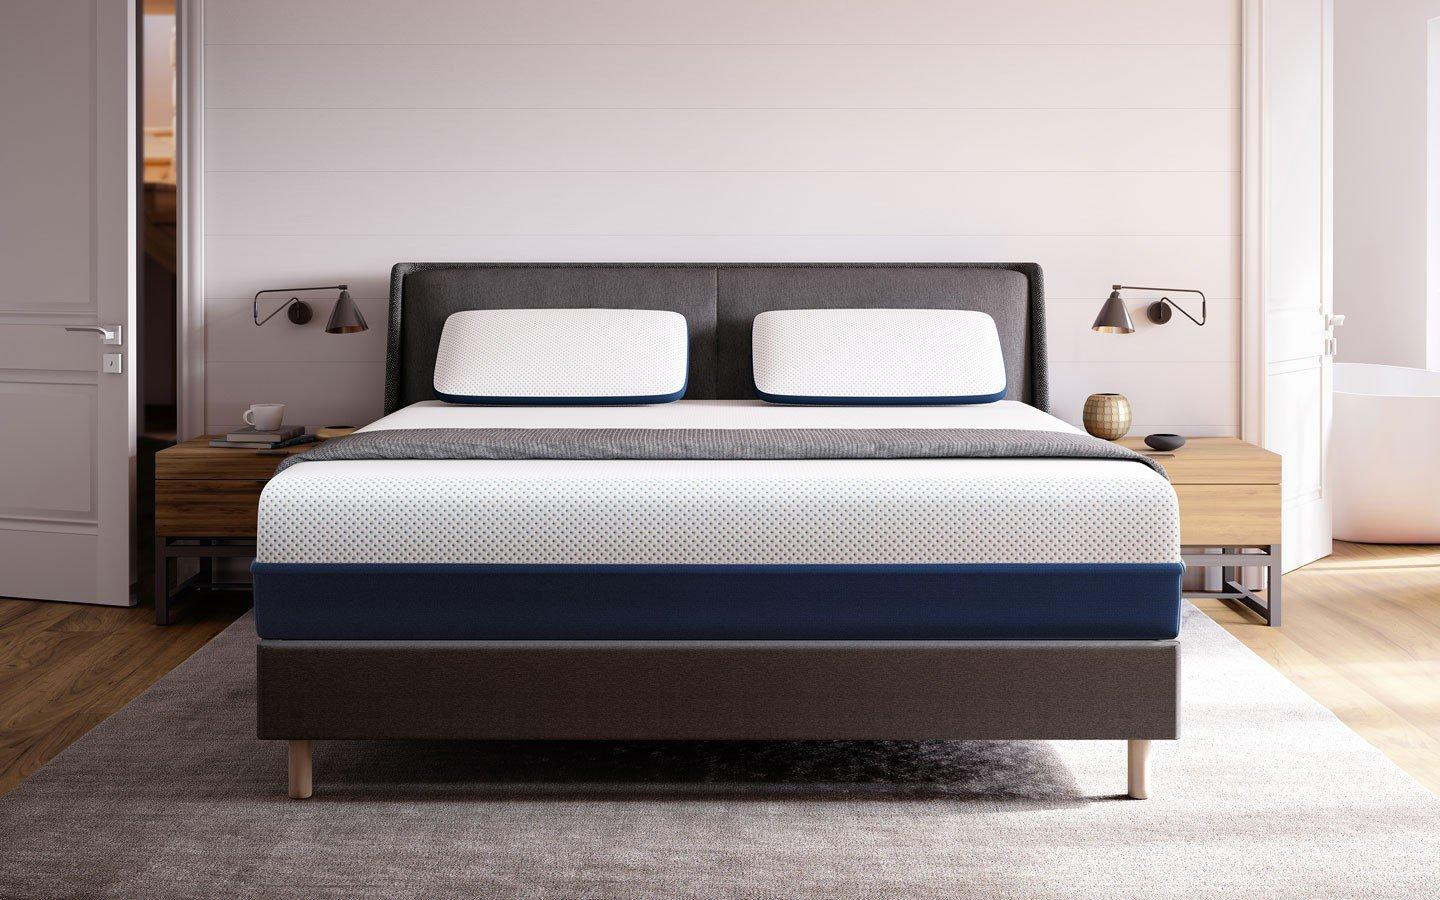bed: (348, 256, 1142, 614)
